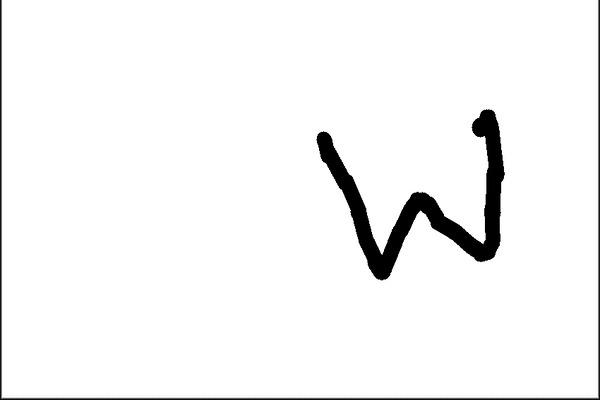w: (297, 96, 516, 298)
